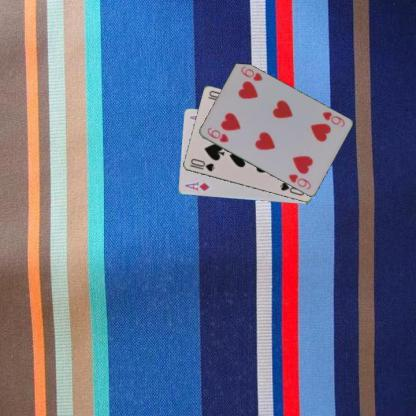10s: (187, 156, 216, 173)
6h: (204, 125, 230, 144), (320, 109, 346, 128)
Ad: (182, 180, 211, 192)
